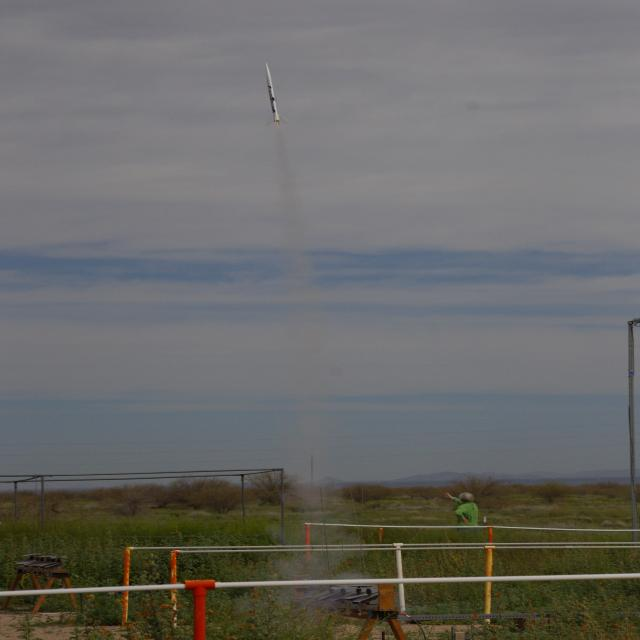Rocket: (264, 64, 291, 125)
